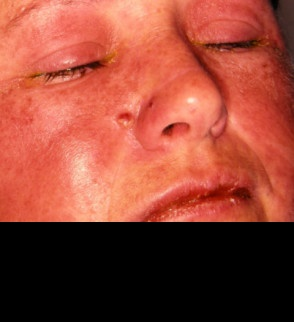SJS-TEN: (119, 171, 264, 223)
